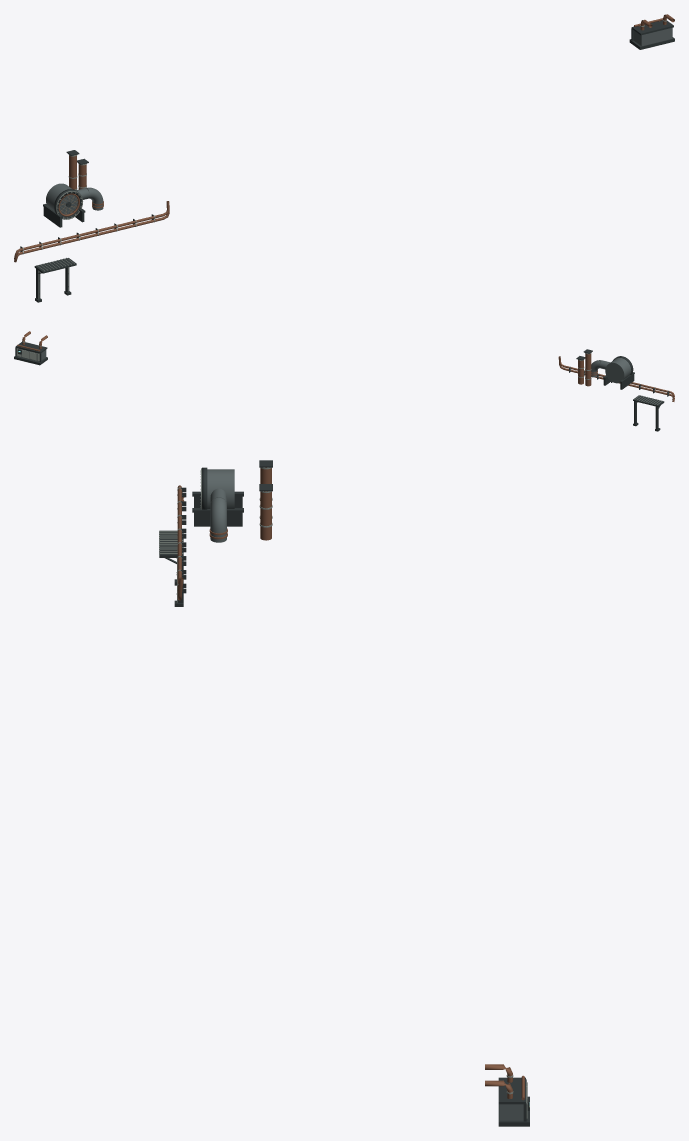
File: ash-exchange.glb
3 views of the same model, one above another, from view 1: azimuth 30°, elevation 25°; view 2: azimuth 150°, elevation 25°; view 3: azimuth 270°, elevation 25° (orthographic). The views are drawn at different scales.
Parts seen in each view (by area): view 1: blackened steel, oxide, tarnished iron, warm galvanized metal; view 2: blackened steel, oxide, tarnished iron, warm galvanized metal; view 3: blackened steel, tarnished iron, oxide.
Boxes of the visible parts, x1,y1,x2,y2 form: blackened steel: (20, 20, 674, 302); oxide: (14, 14, 674, 262); tarnished iron: (46, 27, 672, 214); warm galvanized metal: (22, 19, 666, 299); blackened steel: (14, 342, 668, 431); oxide: (17, 331, 674, 401); tarnished iron: (16, 348, 631, 383); warm galvanized metal: (16, 341, 669, 404); blackened steel: (159, 460, 529, 1126); tarnished iron: (207, 469, 523, 1120); oxide: (177, 467, 524, 1100).
Bounding box in the file's own units: 75.13 × 10.47 × 21.06.
